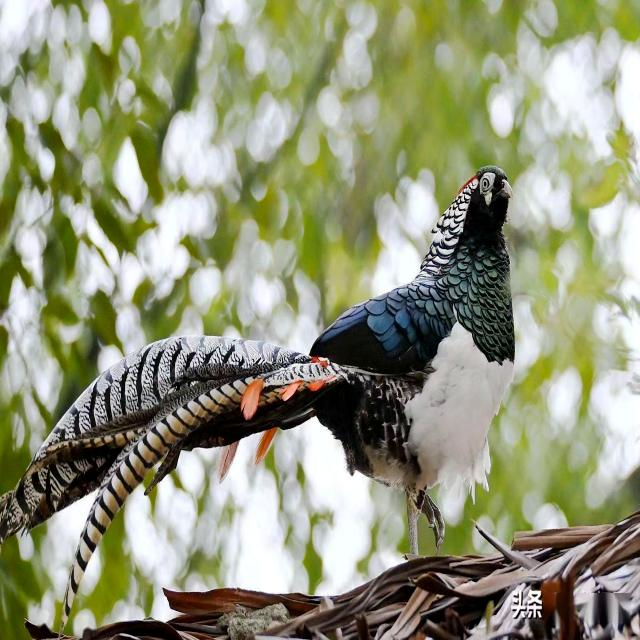Chrysolophus amherstiae: (0, 336, 370, 624)
